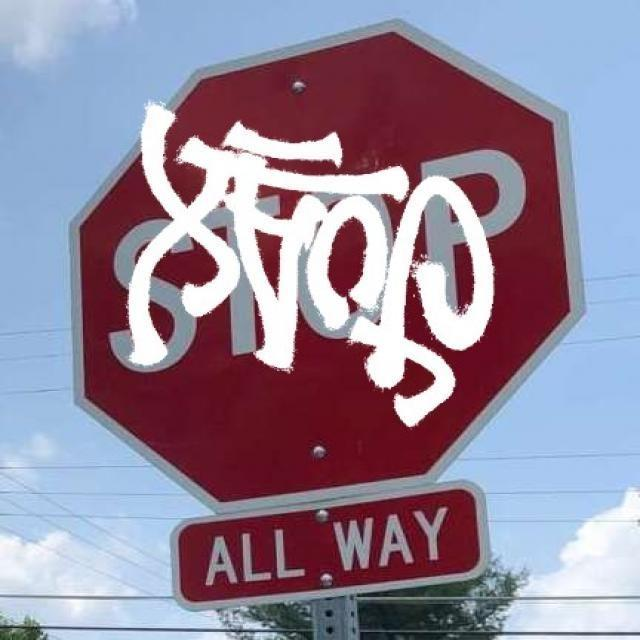Stop-Sign: (87, 42, 566, 476)
